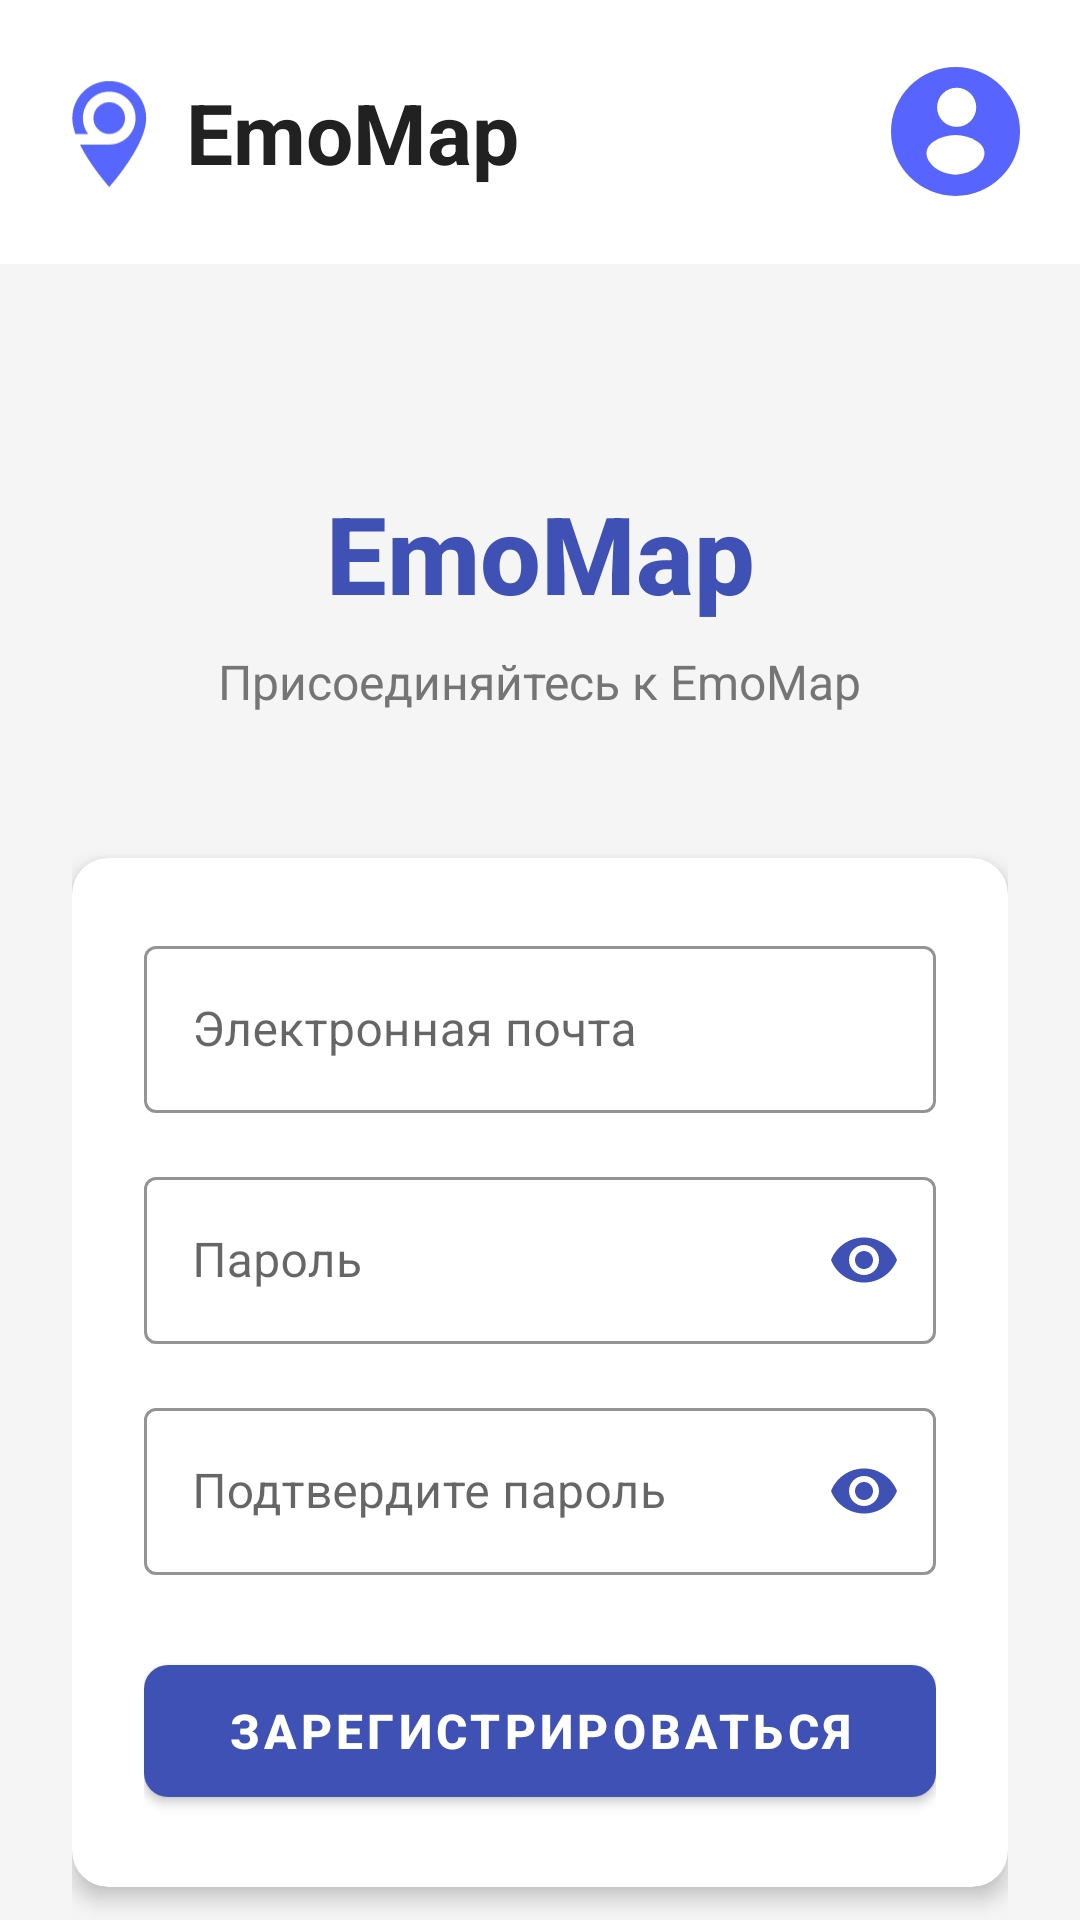

Locate icon controls on the screen. Image size 1080x1920, boxes as bbox=(x1, y1, x2, y2).
Профиль: bbox=(891, 67, 1020, 196)
